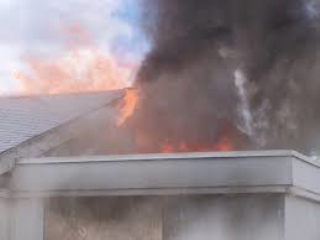fire: (17, 55, 120, 92), (111, 81, 144, 129)
smoke: (130, 5, 314, 151)
